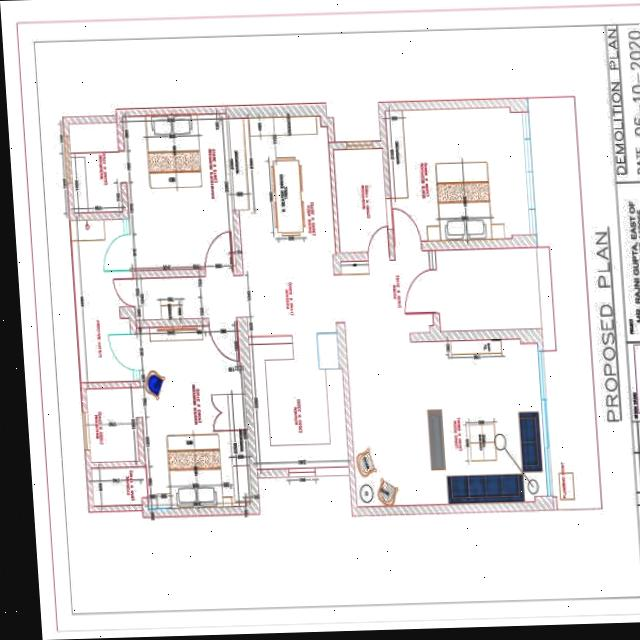room: (340, 248, 548, 511), (385, 101, 536, 246), (136, 324, 250, 512), (122, 108, 236, 271), (234, 113, 336, 277), (247, 311, 344, 470), (67, 216, 140, 385), (333, 146, 390, 262), (69, 119, 123, 212), (85, 384, 139, 463), (90, 464, 147, 505)
